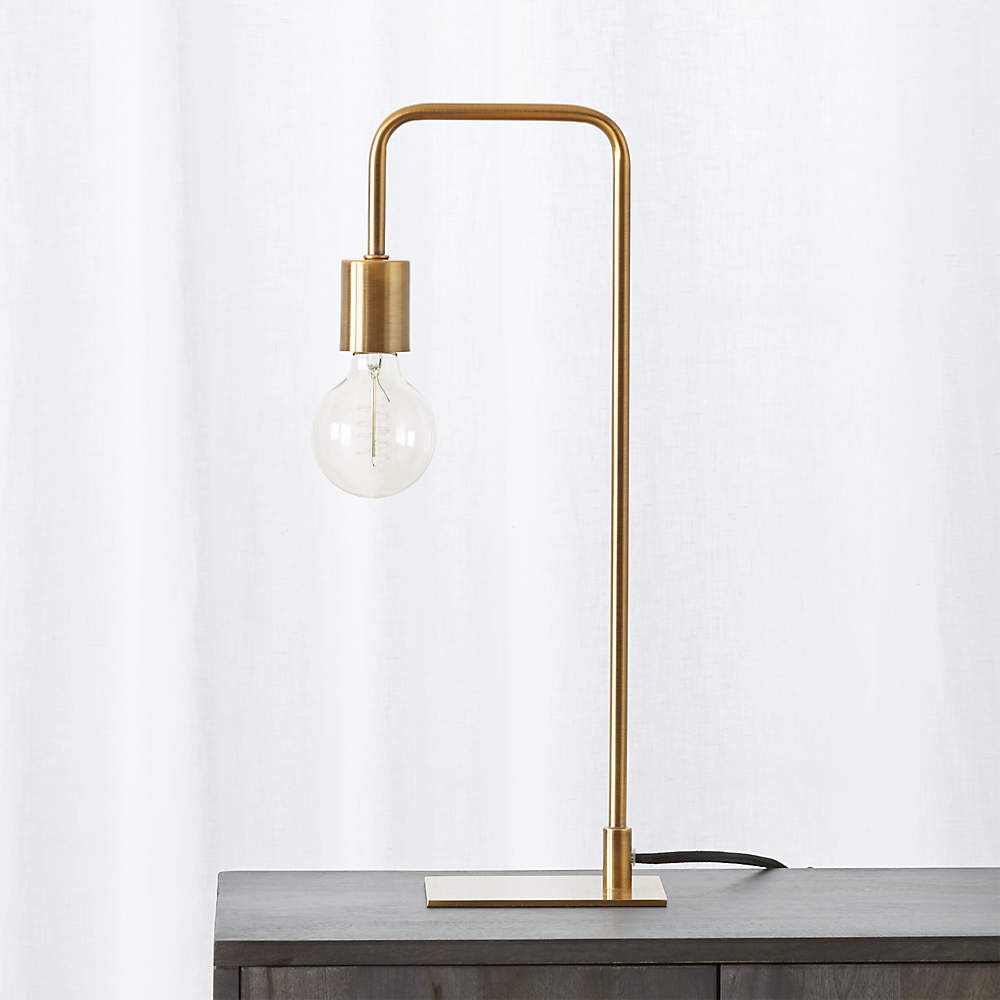lampu: (308, 96, 671, 909)
